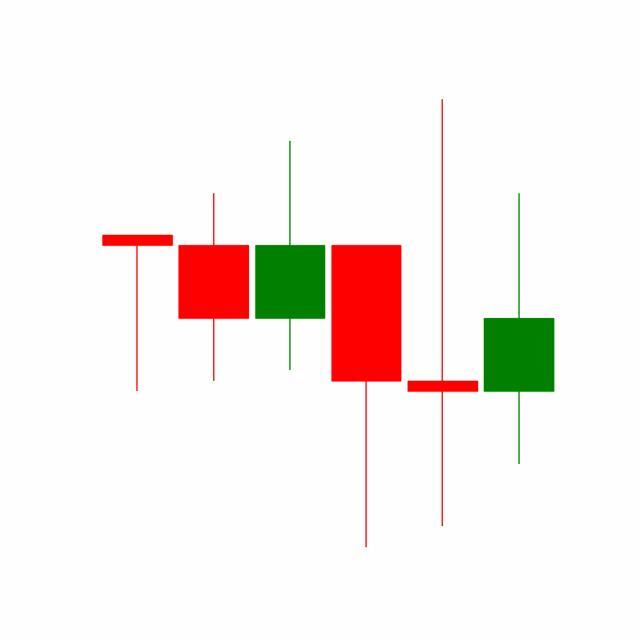Spinning Top: (404, 95, 482, 532)
